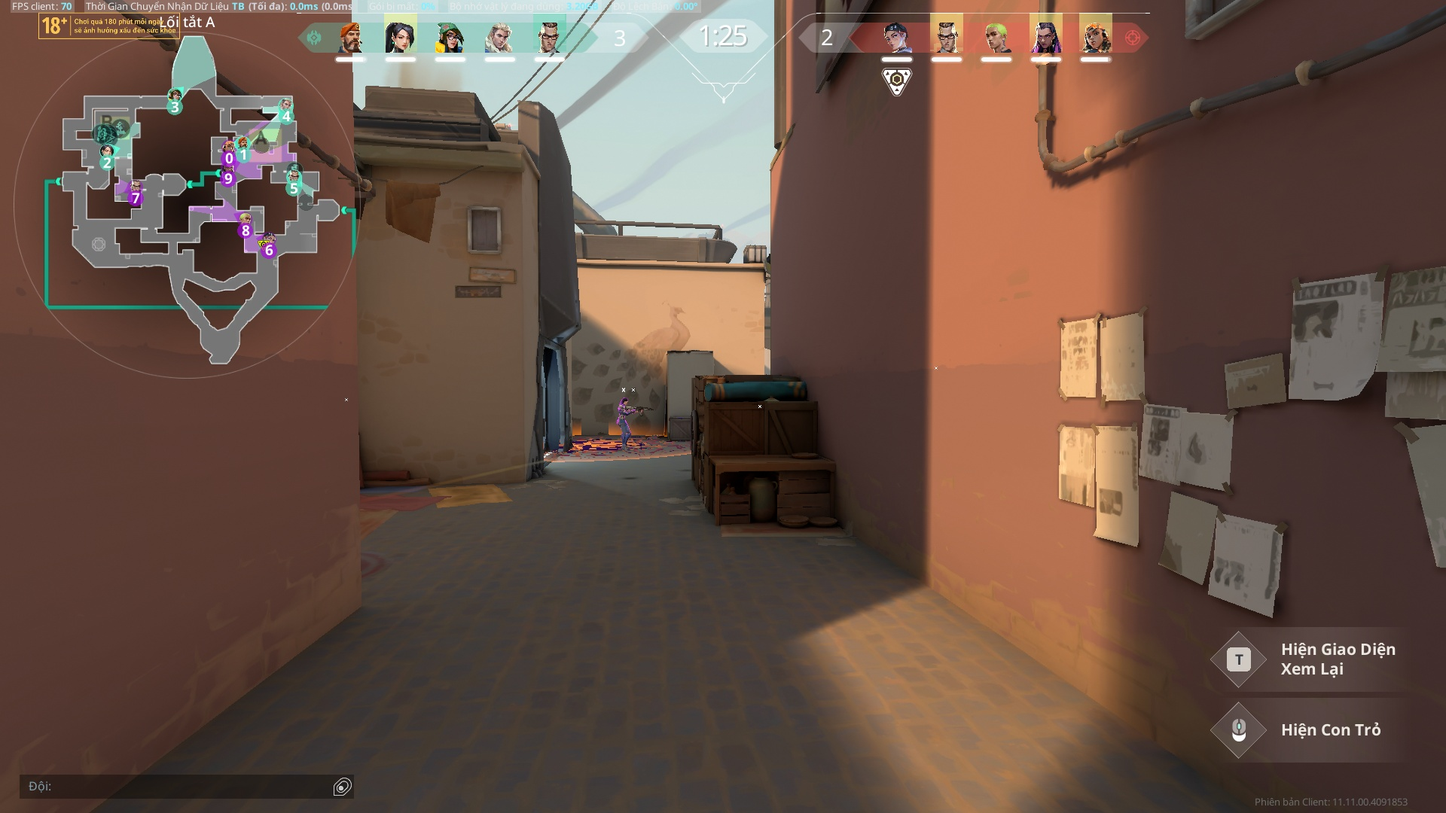body: (618, 403, 627, 419)
head: (620, 396, 627, 405)
